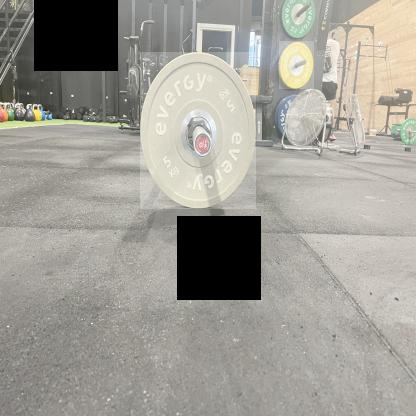barbell: (141, 53, 257, 210), (280, 42, 315, 90)
